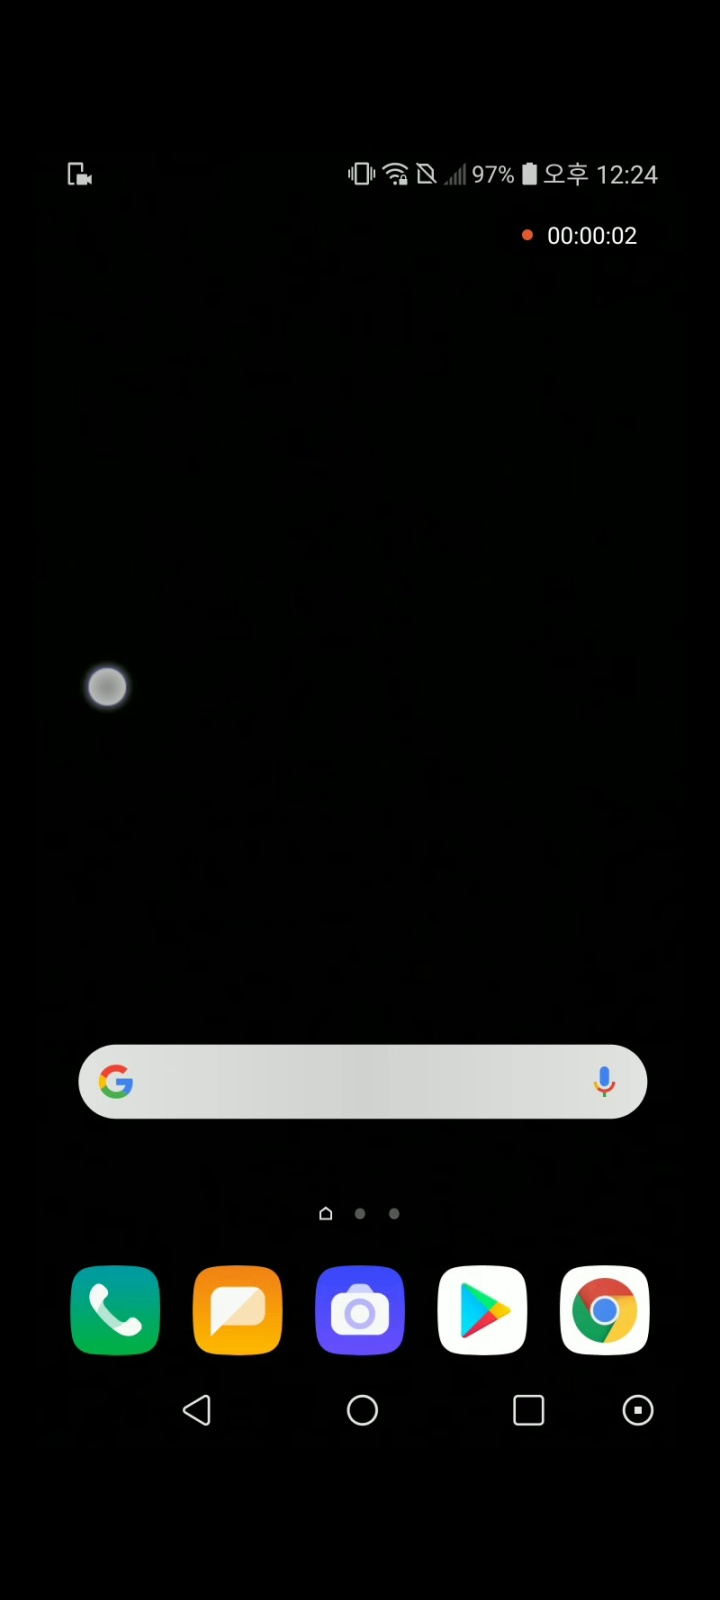Cursor: (85, 665, 130, 710)
